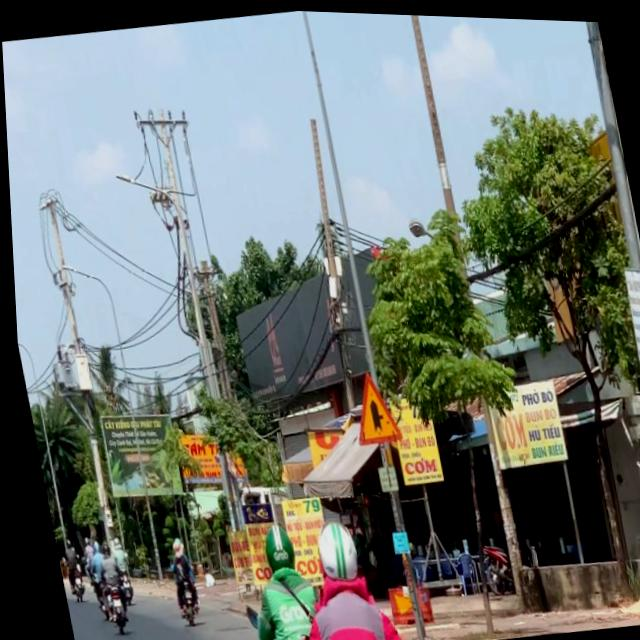Giao nhau voi duong khong uu tien ben phai: (341, 365, 401, 447)
